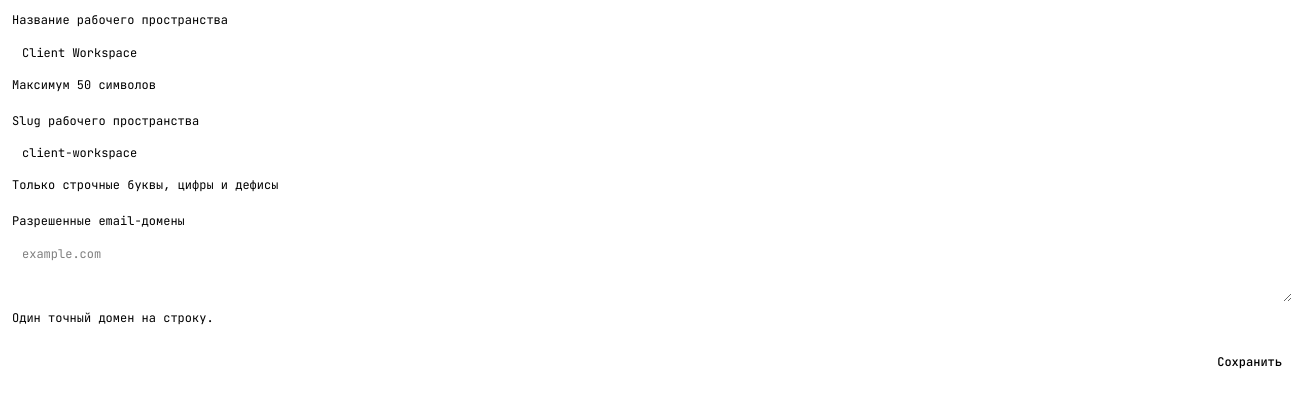
it: WorkspaceSettingsForm › navigates to the canonical settings route and resets to the saved values after a slug update
The image size is (1304, 394).
Replace the text in the field labelled "Название рабочего пространства" with "Renamed Workspace" at (652, 52), box x1=12 y1=36 x2=1292 y2=68
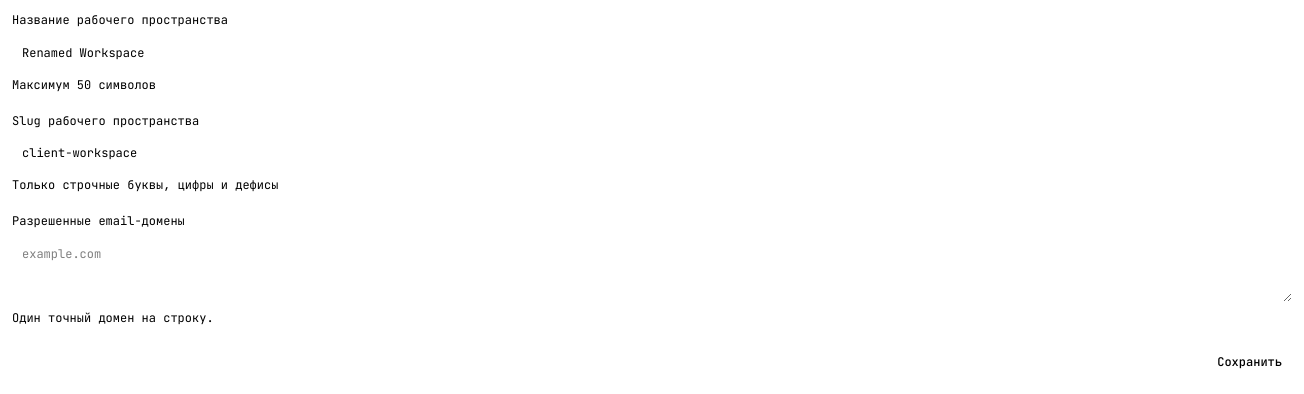
Check: the button "Сохранить" is enabled, box x1=1207 y1=346 x2=1292 y2=378
Submit the form named "Сохранить"
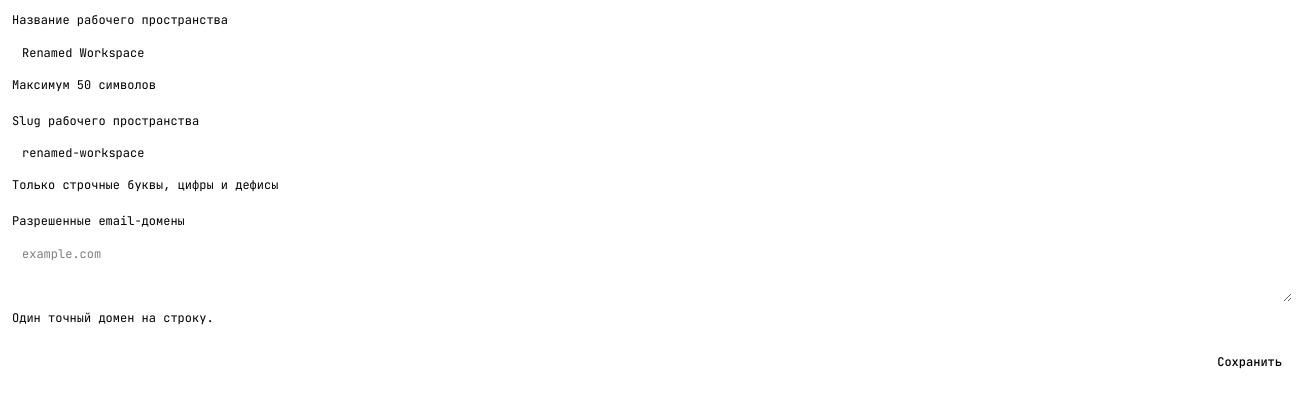
Check: the field showing "renamed-workspace" is shown, box x1=12 y1=137 x2=1292 y2=169
